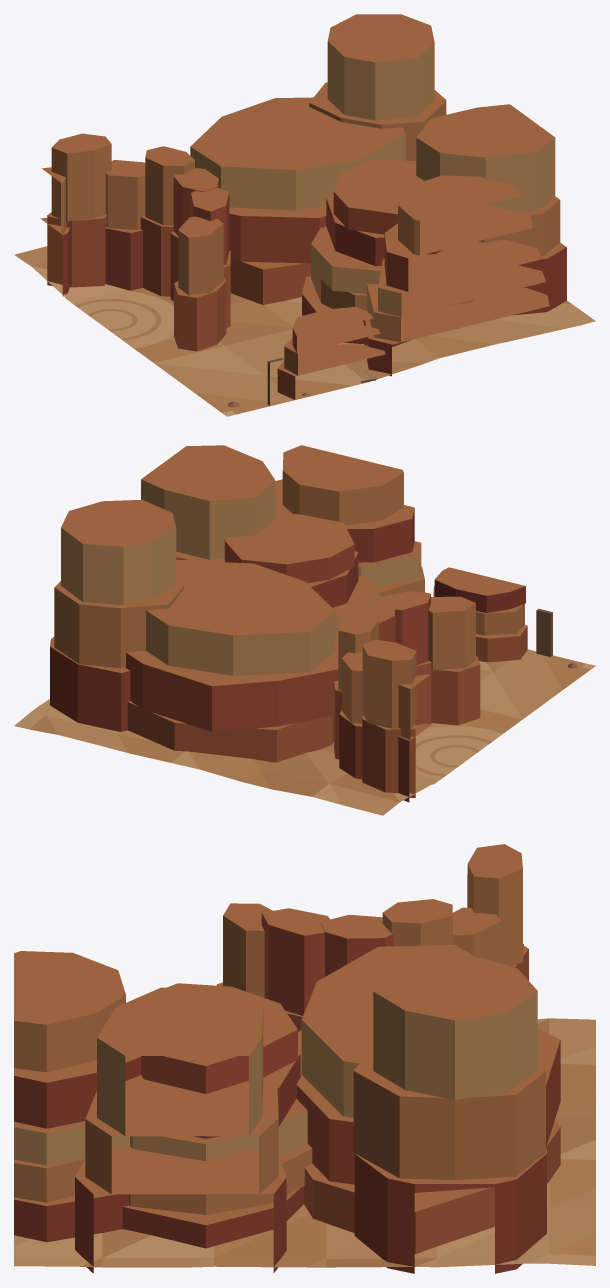
3 views of the same model, one above another, from view 1: azimuth 30°, elevation 25°; view 2: azimuth 150°, elevation 25°; view 3: azimuth 270°, elevation 25° (orthographic). The views are drawn at different scales.
Parts seen in each view (by area): view 1: baked; view 2: baked; view 3: baked.
Part boxes in pixels (bbox=[...]): baked: bbox=[14, 14, 595, 416]; baked: bbox=[14, 445, 595, 815]; baked: bbox=[14, 844, 595, 1273].
Size of the model in its own units: 62.5 by 29.76 by 62.5.
